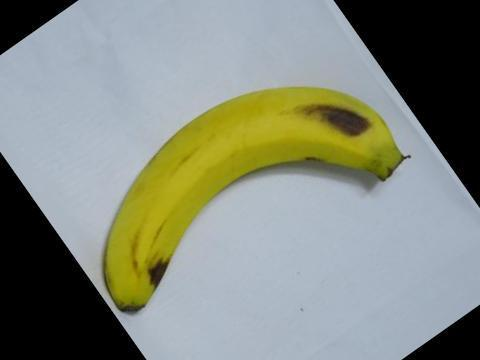freshripe: (81, 72, 418, 326)
